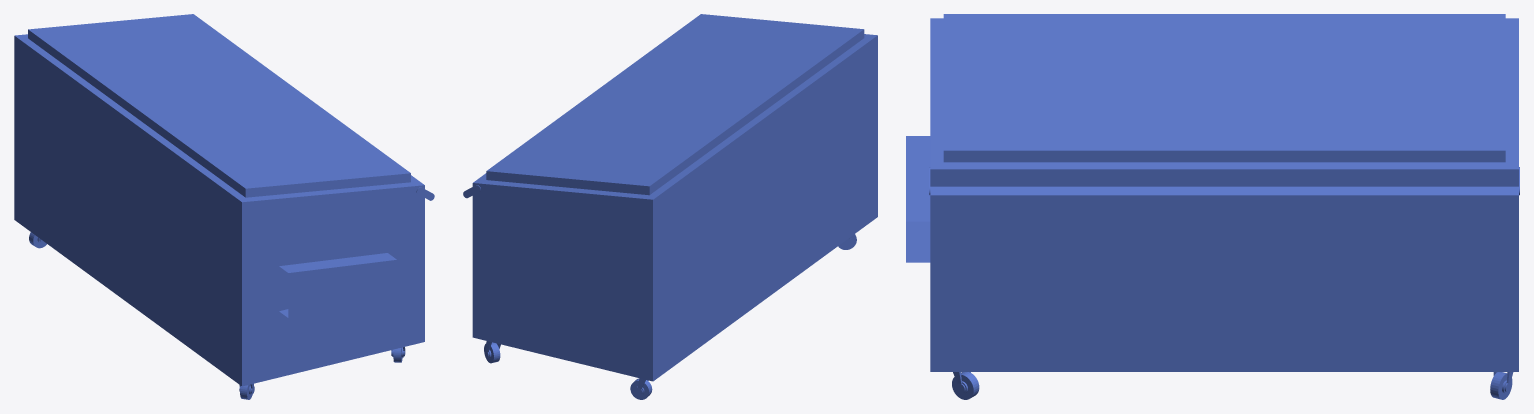
Rendered from Dustbeen1.fbx.
3 views of the same model, side by side, from view 1: azimuth 30°, elevation 25°; view 2: azimuth 150°, elevation 25°; view 3: azimuth 270°, elevation 25° (orthographic). The views are drawn at different scales.
Visible parts, largest first — view 1: Trash Box; view 2: Trash Box; view 3: Trash Box.
Boxes of the visible parts, box(x1,y1,x2,y2) form: Trash Box: box(14, 14, 434, 399); Trash Box: box(463, 14, 877, 399); Trash Box: box(906, 14, 1519, 399).
Bounding box in the file's own units: 922 × 430 × 468.
